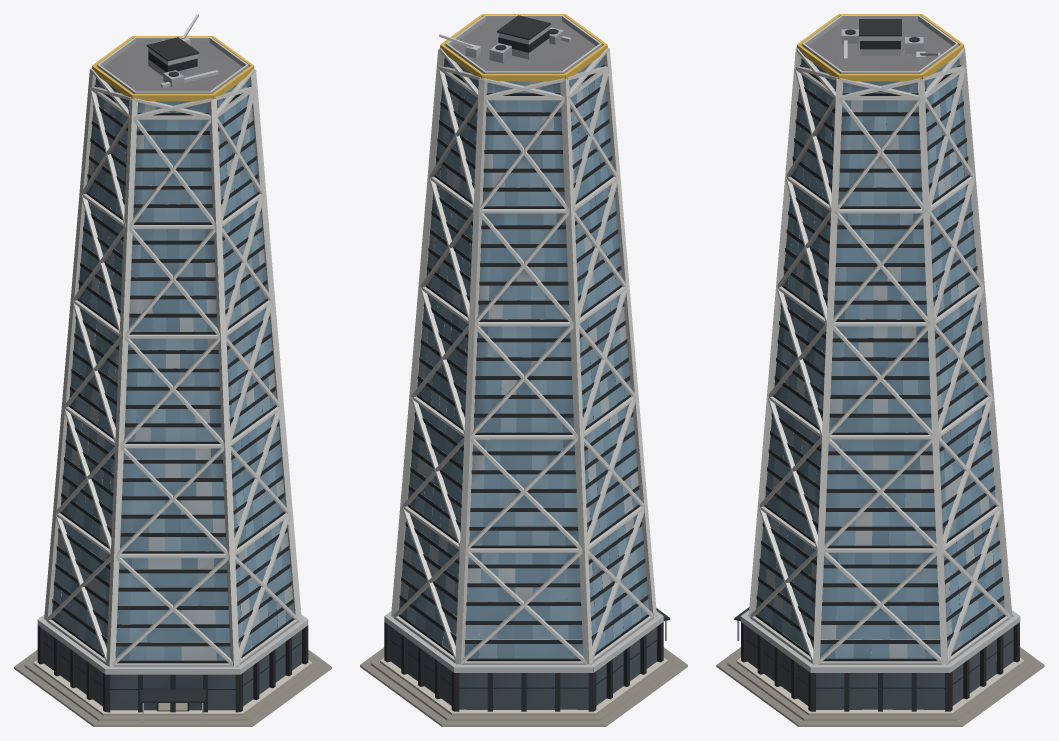
3 views of the same model, side by side, from view 1: azimuth 30°, elevation 25°; view 2: azimuth 150°, elevation 25°; view 3: azimuth 270°, elevation 25° (orthographic). The views are drawn at different scales.
Parts seen in each view (by area): view 1: t2; view 2: t2; view 3: t2.
Part boxes in pixels (left/top/right/bottom): t2: left=14, top=14, right=331, bottom=726; t2: left=360, top=14, right=687, bottom=726; t2: left=716, top=14, right=1044, bottom=726.
Size of the model in its own units: 54.88 by 137 by 63.37.
